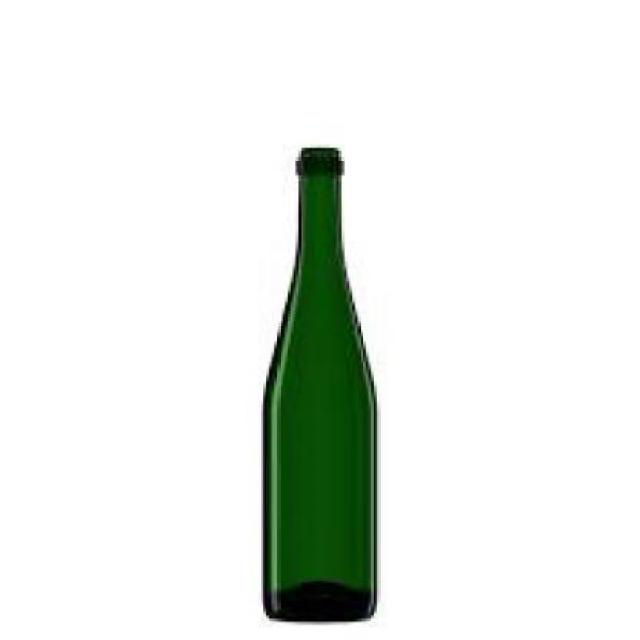GLASS: (260, 144, 374, 618)
